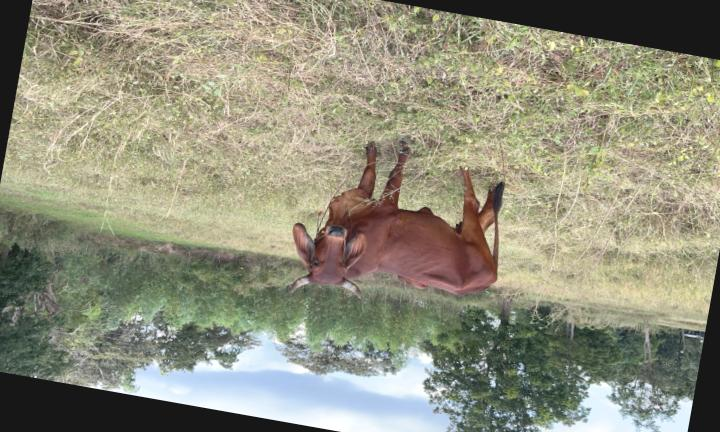Brahman: (291, 142, 504, 298)
